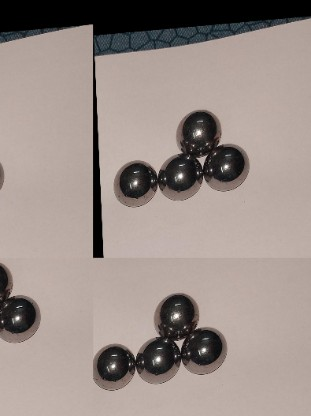ironball: (153, 153, 205, 206), (176, 322, 227, 376), (130, 336, 180, 386), (0, 293, 47, 344), (152, 289, 200, 338), (204, 143, 247, 193), (111, 160, 156, 207), (172, 108, 221, 150), (95, 341, 137, 390)
